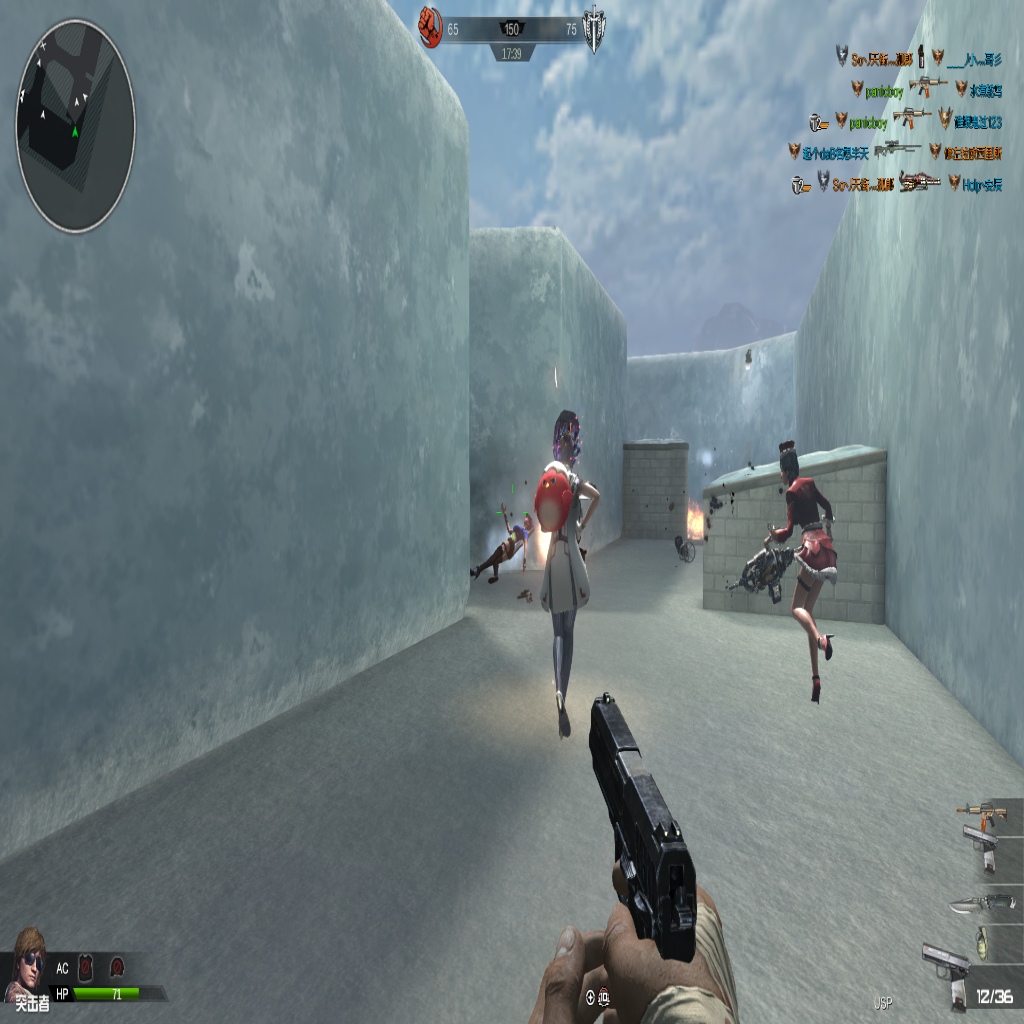tt: (534, 419, 594, 735)
